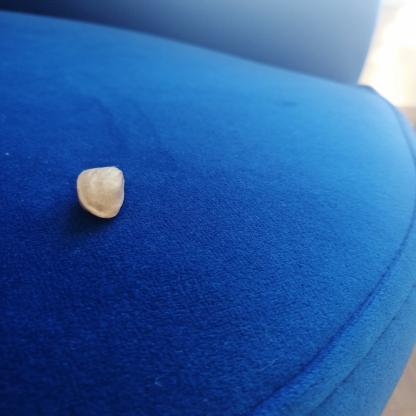pistachio: (74, 163, 134, 224)
